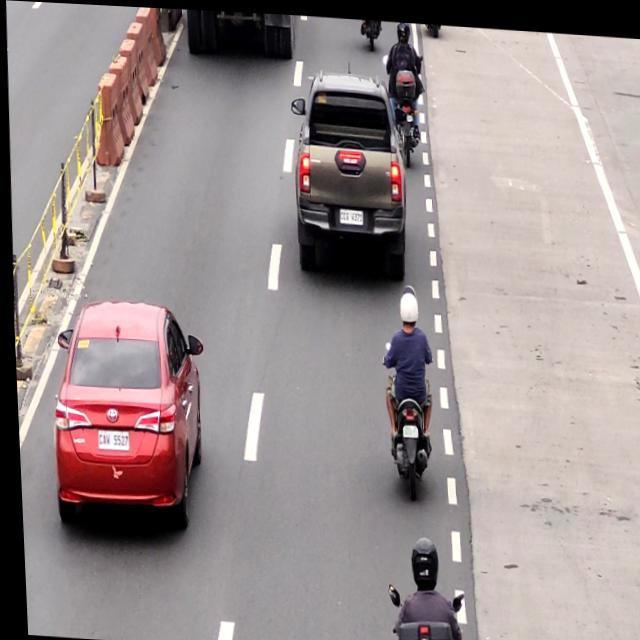Car: (48, 299, 205, 533), (290, 75, 399, 272)
License-Plate: (92, 426, 126, 451), (335, 202, 362, 220), (396, 419, 415, 434)
Motorcycle: (375, 279, 439, 501), (381, 527, 464, 640), (383, 17, 426, 162)
